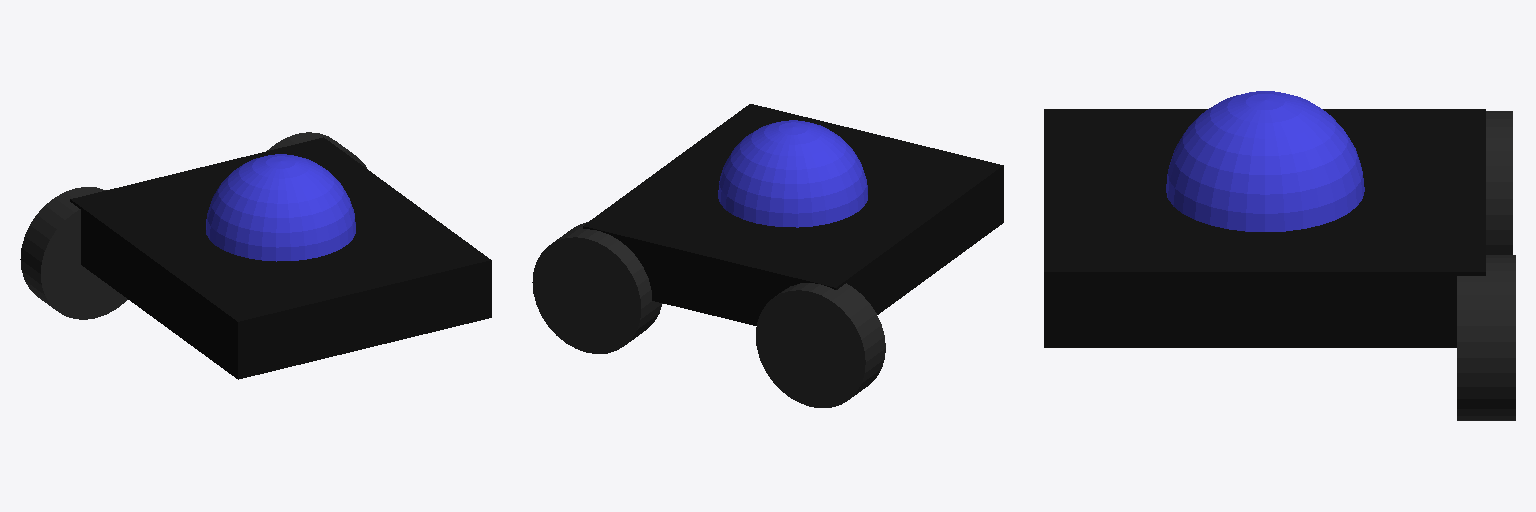
robot.urdf — evolved_robot:
<?xml version="1.0"?>
<robot name="evolved_robot">
  <material name="metal">
    <color rgba="0.7 0.7 0.7 1.0"/>
  </material>
  <material name="plastic">
    <color rgba="0.3 0.3 0.9 1.0"/>
  </material>
  <material name="rubber">
    <color rgba="0.1 0.1 0.1 1.0"/>
  </material>
  <material name="red">
    <color rgba="1.0 0.0 0.0 1.0"/>
  </material>
  <material name="wheel_material">
    <color rgba="0.2 0.2 0.2 1.0"/>
  </material>
  <link name="base_link">
    <visual>
      <geometry><box size="0.331214373255463 0.3792780450720862 0.07219952226686528"/></geometry>
      <material name="rubber"/>
    </visual>
    <collision>
      <geometry><box size="0.331214373255463 0.3792780450720862 0.07219952226686528"/></geometry>
    </collision>
    <inertial>
      <mass value="5.0"/>
      <inertia ixx="0.1242205054077225" ixy="0" ixz="0" 
               iyy="0.09576311005547727" iyz="0" 
               izz="0.21129566377059383"/>
    </inertial>
  </link>
  <link name="link1">
    <visual>
      <geometry><sphere radius="0.08547162820621959"/></geometry>
      <material name="plastic"/>
    </visual>
    <collision>
      <geometry><sphere radius="0.08547162820621959"/></geometry>
    </collision>
    <inertial>
      <mass value="0.5"/>
      <inertia ixx="0.002922159691288893" ixy="0" ixz="0" 
               iyy="0.002922159691288893" iyz="0" 
               izz="0.002922159691288893"/>
    </inertial>
  </link>
  <joint name="joint1" type="revolute">
    <parent link="base_link"/>
    <child link="link1"/>
    <origin xyz="0 0 0.03609976113343264" rpy="0 0 0"/>
    <axis xyz="-0.5267367742547657 -0.7517710228777881 0.3967224468176312"/>
    <dynamics damping="0.8212211505894433" friction="0.1"/>
    <limit lower="-0.715922973925807" upper="1.4960121739306087" effort="100" velocity="100"/>
  </joint>
  <link name="link2">
    <visual>
      <geometry>
        <cylinder radius="0.07120746322080293" length="0.0504971617062694"/>
      </geometry>
      <material name="wheel_material"/>
    </visual>
    <collision>
      <geometry>
        <cylinder radius="0.07120746322080293" length="0.0504971617062694"/>
      </geometry>
    </collision>
    <inertial>
      <mass value="1.0"/>
      <inertia ixx="0.0014801226496179273" ixy="0" ixz="0" 
               iyy="0.0014801226496179273" iyz="0" 
               izz="0.002535251409171001"/>
    </inertial>
  </link>
  <joint name="joint2" type="continuous">
    <parent link="base_link"/>
    <child link="link2"/>
    <origin xyz="0.1456071866277315 0.1896390225360431 -0.03609976113343264" rpy="1.5708 0 0"/>
    <axis xyz="0 1 0"/>
    <dynamics damping="0.9294504808875538" friction="0.1"/>
  </joint>
  <link name="link3">
    <visual>
      <geometry>
        <cylinder radius="0.07202321520114786" length="0.04571595030227395"/>
      </geometry>
      <material name="wheel_material"/>
    </visual>
    <collision>
      <geometry>
        <cylinder radius="0.07202321520114786" length="0.04571595030227395"/>
      </geometry>
    </collision>
    <inertial>
      <mass value="1.0"/>
      <inertia ixx="0.0014709982246477126" ixy="0" ixz="0" 
               iyy="0.0014709982246477126" iyz="0" 
               izz="0.0025936717639554285"/>
    </inertial>
  </link>
  <joint name="joint3" type="continuous">
    <parent link="base_link"/>
    <child link="link3"/>
    <origin xyz="-0.1456071866277315 0.1896390225360431 -0.03609976113343264" rpy="1.5708 0 0"/>
    <axis xyz="0 1 0"/>
    <dynamics damping="0.47926926660158287" friction="0.1"/>
  </joint>
</robot>

--- What the picture shows (computed from the rendered views, not written in the file) ---
3 views of the same robot in one strip: view 1: azimuth 30°, elevation 25°; view 2: azimuth 150°, elevation 25°; view 3: azimuth 270°, elevation 25° (orthographic).
Robot: evolved_robot — 4 links, 3 joints (1 revolute, 2 continuous); root link base_link; default pose: all joints at 0.
Links seen in each view (by area): view 1: base_link, link1, link3, link2; view 2: base_link, link3, link1, link2; view 3: base_link, link1, link2, link3.
Boxes of the visible links, bbox=[...] form: base_link: bbox=[70, 137, 491, 379]; link1: bbox=[206, 154, 355, 261]; link3: bbox=[20, 187, 127, 319]; link2: bbox=[267, 132, 366, 168]; base_link: bbox=[583, 104, 1003, 325]; link3: bbox=[756, 283, 885, 407]; link1: bbox=[718, 120, 867, 227]; link2: bbox=[532, 222, 662, 353]; base_link: bbox=[1044, 109, 1485, 347]; link1: bbox=[1166, 91, 1364, 231]; link2: bbox=[1457, 255, 1515, 420]; link3: bbox=[1486, 111, 1512, 254].
Bounding box of the posed robot: 0.4344 × 0.4045 × 0.2297 m (x, y, z).
Geometry: primitives only (box / cylinder / sphere), no mesh files.